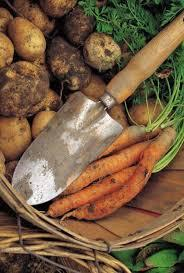Organic: (5, 4, 184, 273)
